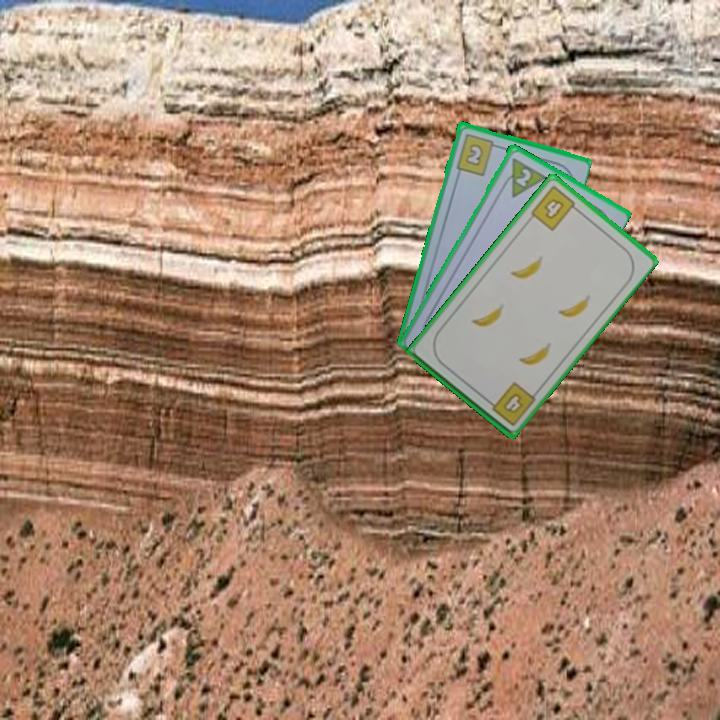2b: (452, 130, 502, 178)
2p: (512, 164, 534, 189)
4b: (527, 182, 583, 234), (483, 378, 538, 429)
